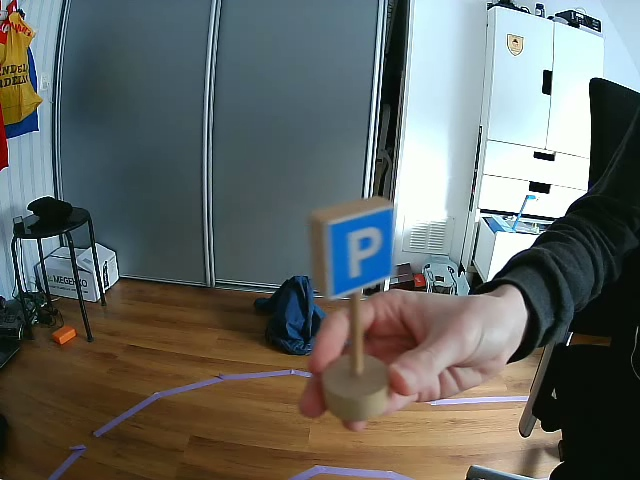parkeerbord: (324, 203, 397, 300)
